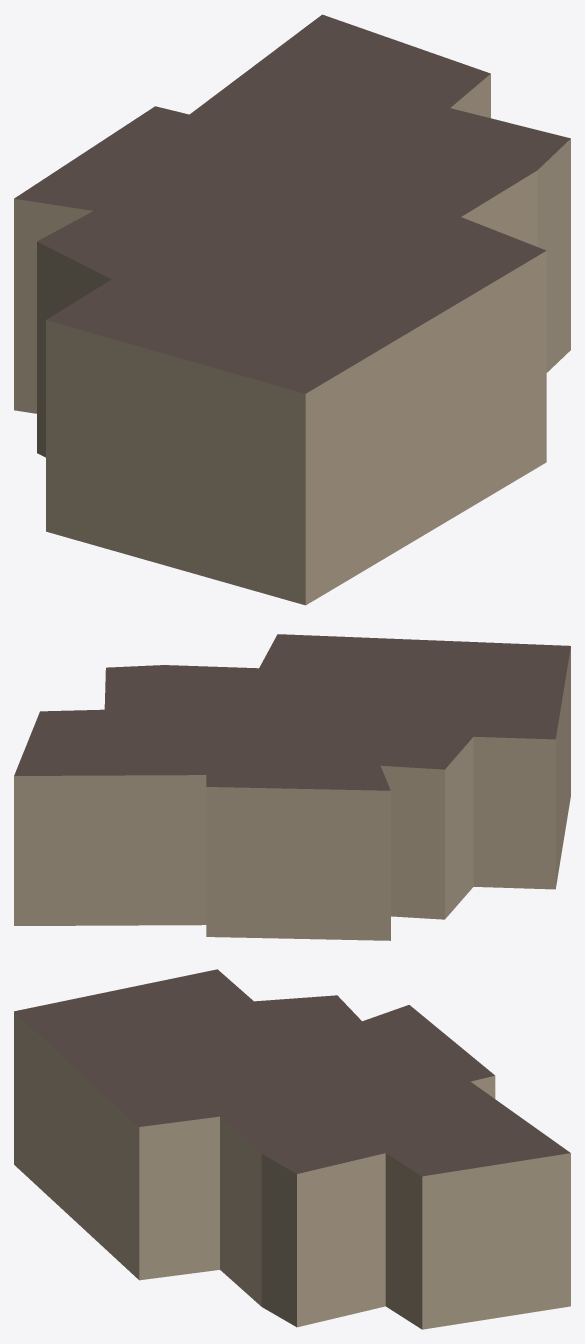
The picture shows the model from 3 angles, top to bottom: view 1: azimuth 30°, elevation 25°; view 2: azimuth 150°, elevation 25°; view 3: azimuth 270°, elevation 25°; orthographic projection. The views are drawn at different scales.
Visible parts, largest first — view 1: HP-w1516161973; view 2: HP-w1516161973; view 3: HP-w1516161973.
Part boxes in pixels (x1,y1,x2,y2): HP-w1516161973: [14, 14, 570, 605]; HP-w1516161973: [14, 634, 570, 940]; HP-w1516161973: [14, 969, 570, 1329].
Bounding box in the file's own units: 26.08 × 9 × 29.64.
